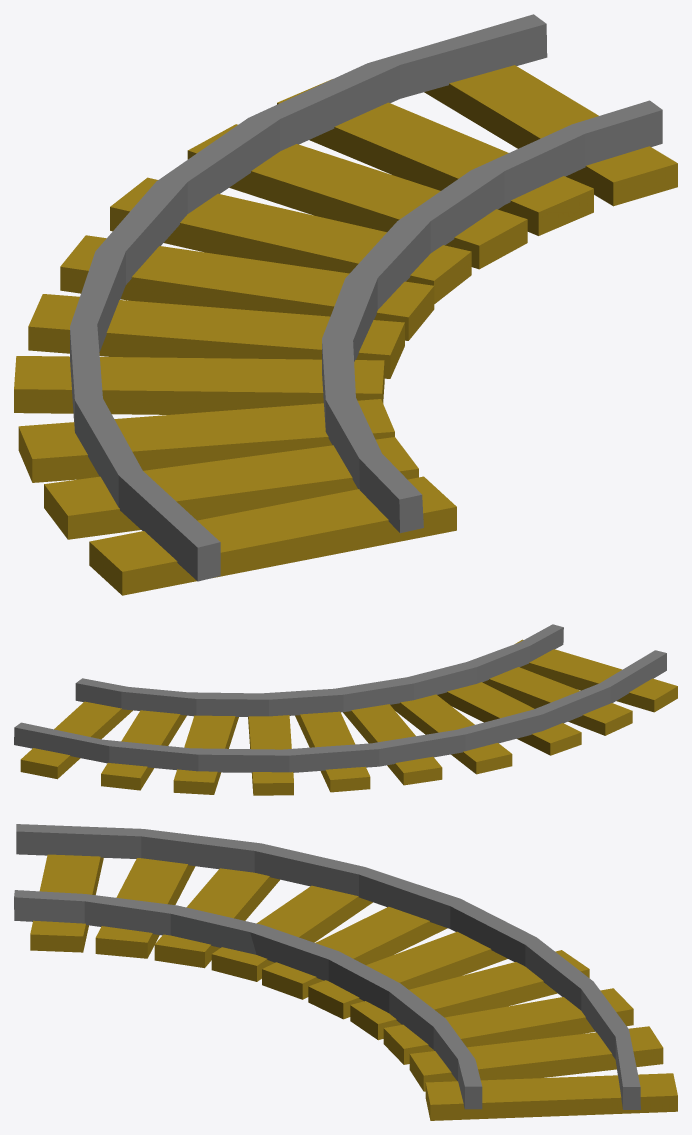
The model's file is CurvedTrackOriginal.fbx.
3 renders of one model, top to bottom at view 1: azimuth 30°, elevation 25°; view 2: azimuth 150°, elevation 25°; view 3: azimuth 270°, elevation 25°, orthographic. The views are drawn at different scales.
Parts seen in each view (by area): view 1: Circle.002, Circle.001, Cube.019, Cube.000, Cube.007, Cube.018, Cube.020, Cube.017, Cube.013, Cube.016, Cube.015, Cube.014; view 2: Circle.002, Circle.001, Cube.019, Cube.018, Cube.020, Cube.000, Cube.014, Cube.007, Cube.015, Cube.017, Cube.016, Cube.013; view 3: Circle.002, Circle.001, Cube.014, Cube.015, Cube.016, Cube.013, Cube.017, Cube.007, Cube.000, Cube.018, Cube.020, Cube.019.
Boxes of the visible parts, x1,y1,x2,y2 form: Circle.002: (70, 14, 547, 581); Circle.001: (322, 100, 662, 533); Cube.019: (89, 476, 456, 595); Cube.000: (14, 356, 384, 414); Cube.007: (28, 294, 404, 378); Cube.018: (18, 399, 394, 482); Cube.020: (44, 437, 418, 539); Cube.017: (60, 235, 434, 340); Cube.013: (110, 177, 471, 303); Cube.016: (187, 124, 527, 269); Cube.015: (277, 79, 593, 235); Cube.014: (424, 65, 677, 206); Circle.002: (14, 650, 666, 772); Circle.001: (75, 624, 563, 716); Cube.019: (515, 639, 677, 712); Cube.018: (437, 682, 581, 755); Cube.020: (482, 667, 632, 735); Cube.000: (390, 694, 512, 774); Cube.014: (20, 701, 132, 779); Cube.007: (343, 704, 442, 785); Cube.015: (101, 710, 186, 790); Cube.017: (295, 711, 370, 792); Cube.016: (173, 715, 238, 794); Cube.013: (248, 715, 293, 795); Circle.002: (16, 824, 640, 1109); Circle.001: (14, 890, 482, 1109); Cube.014: (425, 1073, 677, 1120); Cube.015: (409, 1026, 663, 1091); Cube.016: (383, 988, 633, 1064); Cube.013: (350, 950, 589, 1040); Cube.017: (308, 931, 507, 1019); Cube.007: (262, 906, 447, 999); Cube.000: (211, 885, 372, 981); Cube.018: (154, 868, 279, 968); Cube.020: (95, 858, 195, 958); Cube.019: (30, 854, 103, 952).
Size of the model in its own units: 930 by 58.86 by 935.
